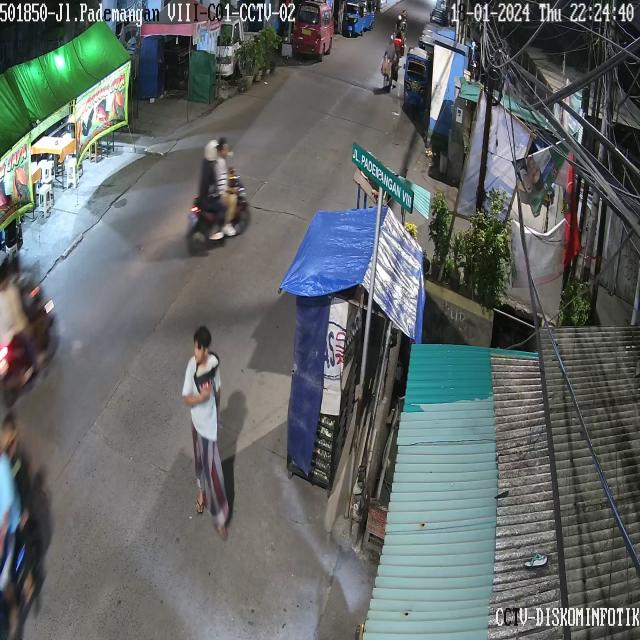Terpal: (302, 223, 363, 290), (0, 64, 80, 103)
